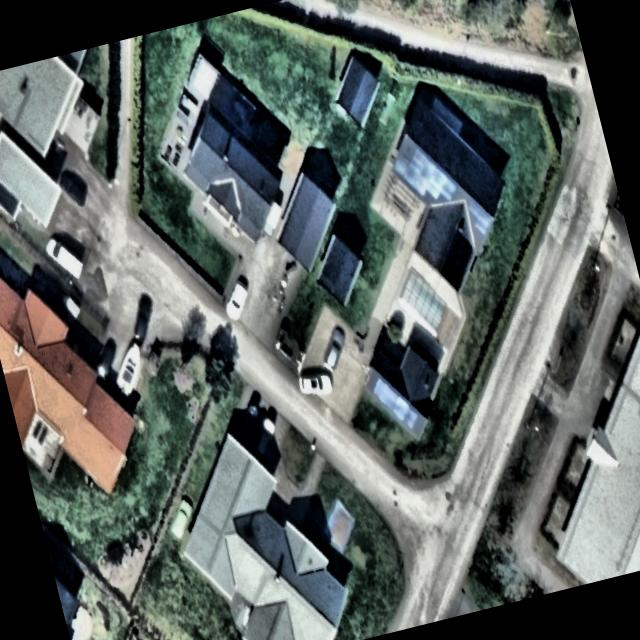roof_pv: (392, 141, 459, 210), (368, 372, 421, 442), (466, 195, 498, 240)
